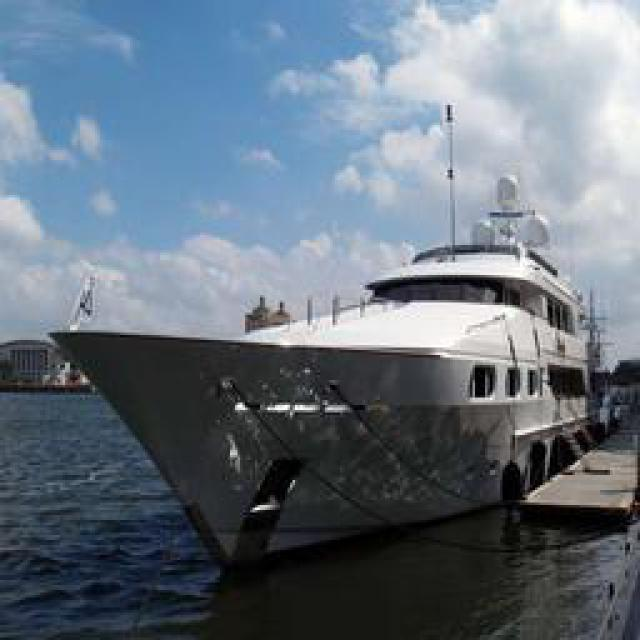Ship: (41, 205, 616, 570)
